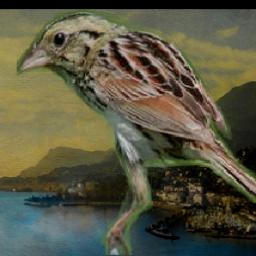Sparrow: (17, 9, 256, 255)
